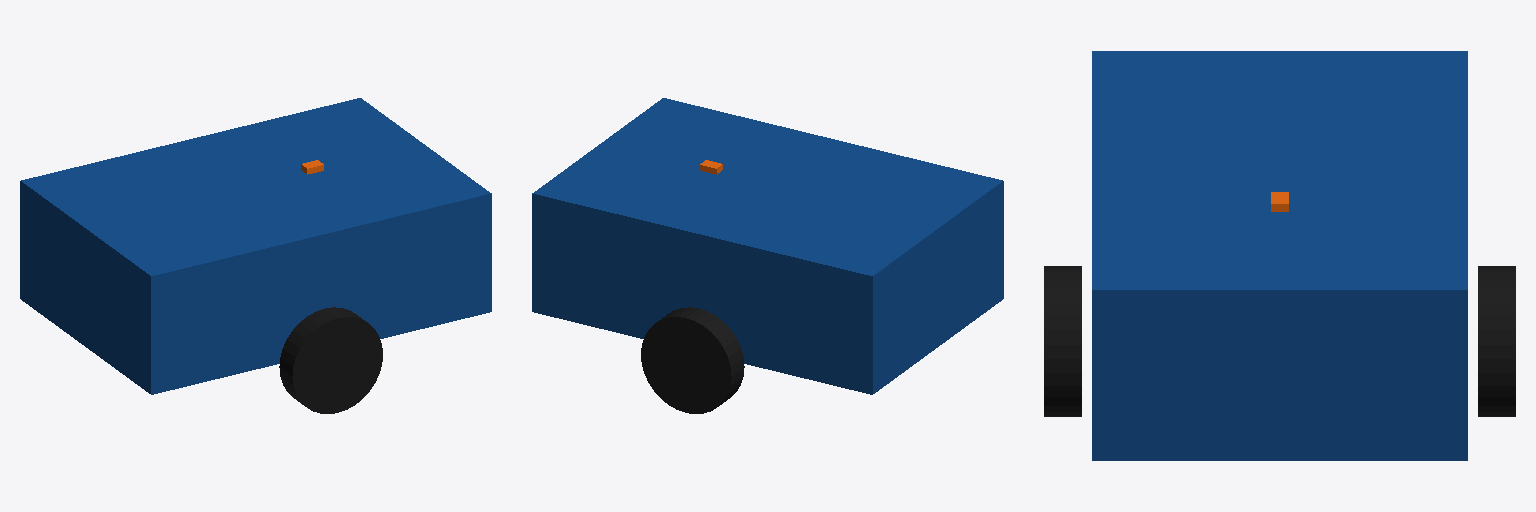
The robot description file, URDF, robot "chaos_demo_ugv":
<?xml version="1.0"?>
<!-- Synthetic visualization fixture, not calibration or a physical simulator.
     Link names are local; robot_state_publisher supplies the asset frame prefix.
     Wheel positions require joint_states from a driver or an explicit test. -->
<robot name="chaos_demo_ugv">
  <material name="body_blue"><color rgba="0.12 0.35 0.60 1"/></material>
  <material name="wheel_gray"><color rgba="0.15 0.15 0.15 1"/></material>
  <material name="sensor_orange"><color rgba="0.95 0.45 0.10 1"/></material>

  <link name="base_link">
    <visual>
      <geometry><box size="0.6 0.4 0.2"/></geometry>
      <material name="body_blue"/>
    </visual>
  </link>
  <link name="left_wheel_link">
    <visual>
      <origin rpy="1.5707963267948966 0 0"/>
      <geometry><cylinder radius="0.08" length="0.04"/></geometry>
      <material name="wheel_gray"/>
    </visual>
  </link>
  <joint name="left_wheel_joint" type="continuous">
    <parent link="base_link"/><child link="left_wheel_link"/>
    <origin xyz="0 0.23 -0.1"/><axis xyz="0 1 0"/>
    <limit effort="1" velocity="4"/>
  </joint>
  <link name="right_wheel_link">
    <visual>
      <origin rpy="1.5707963267948966 0 0"/>
      <geometry><cylinder radius="0.08" length="0.04"/></geometry>
      <material name="wheel_gray"/>
    </visual>
  </link>
  <joint name="right_wheel_joint" type="continuous">
    <parent link="base_link"/><child link="right_wheel_link"/>
    <origin xyz="0 -0.23 -0.1"/><axis xyz="0 1 0"/>
    <limit effort="1" velocity="4"/>
  </joint>
  <link name="body_imu_link">
    <visual>
      <geometry><box size="0.03 0.02 0.01"/></geometry>
      <material name="sensor_orange"/>
    </visual>
  </link>
  <joint name="body_imu_mount" type="fixed">
    <parent link="base_link"/><child link="body_imu_link"/>
    <origin xyz="0.1 0 0.11"/>
  </joint>
</robot>

--- Render facts (derived) ---
Views: 3 orthographic renders of the robot side by side, from view 1: azimuth 30°, elevation 25°; view 2: azimuth 150°, elevation 25°; view 3: azimuth 270°, elevation 25°.
Robot: chaos_demo_ugv — 4 links, 3 joints (2 continuous, 1 fixed); root link base_link; default pose: every joint at zero.
Links seen in each view (by area): view 1: base_link, right_wheel_link; view 2: base_link, left_wheel_link; view 3: base_link, left_wheel_link, right_wheel_link.
Link boxes in pixels (x1,y1,x2,y2): base_link: (20, 98, 491, 394); right_wheel_link: (279, 307, 382, 413); base_link: (532, 98, 1003, 394); left_wheel_link: (641, 307, 744, 413); base_link: (1092, 51, 1467, 460); left_wheel_link: (1478, 266, 1515, 416); right_wheel_link: (1044, 266, 1081, 416).
Size in the robot's own frame: 0.6 by 0.5 by 0.295 metres.
Geometry: primitives only (box / cylinder / sphere), no mesh files.
